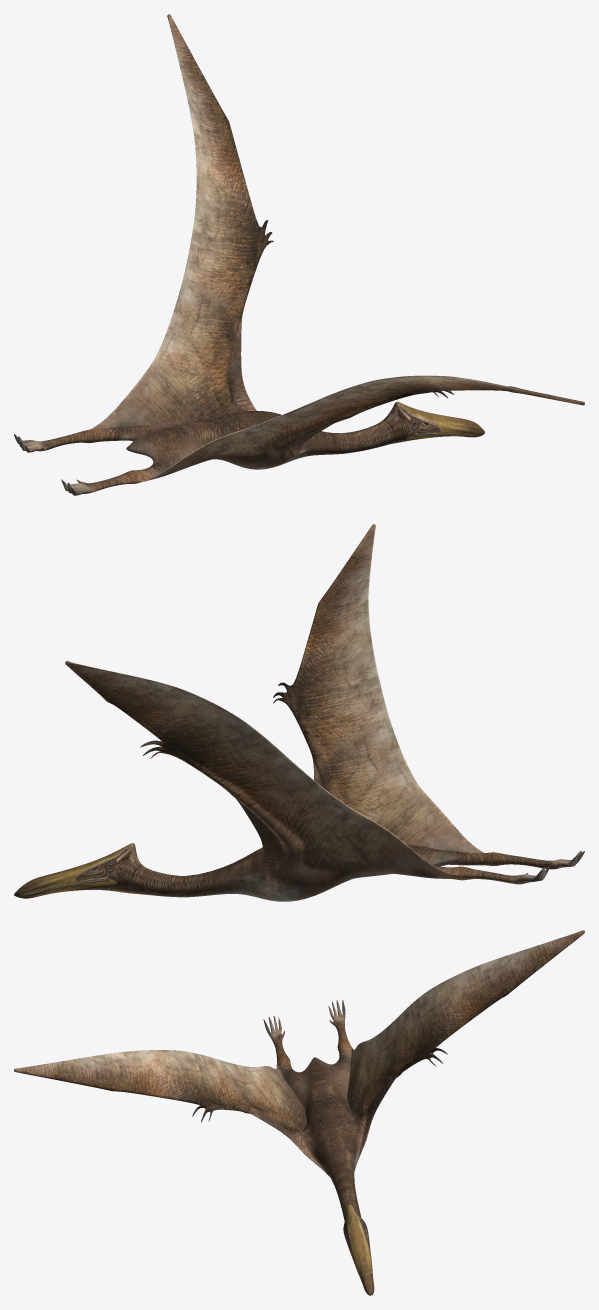
The model's file is Quetzalcoatlus.glb.
3 views of the same model, one above another, from view 1: azimuth 30°, elevation 25°; view 2: azimuth 150°, elevation 25°; view 3: azimuth 270°, elevation 25° (orthographic). The views are drawn at different scales.
Visible parts, largest first — view 1: 13623_Quetzalcoatlus_v1_L2; view 2: 13623_Quetzalcoatlus_v1_L2; view 3: 13623_Quetzalcoatlus_v1_L2.
Boxes of the visible parts, x1,y1,x2,y2 form: 13623_Quetzalcoatlus_v1_L2: (14,14,584,495); 13623_Quetzalcoatlus_v1_L2: (14,524,584,901); 13623_Quetzalcoatlus_v1_L2: (14,930,584,1295).
Size of the model in its own units: 252 by 181 by 318.
1 material, 1 textured.
